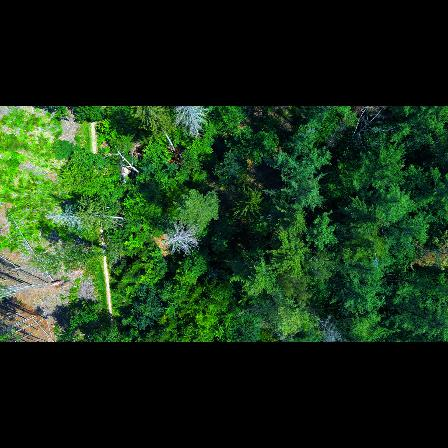Dead: (159, 219, 203, 257), (171, 106, 212, 141), (43, 206, 84, 234), (313, 312, 350, 342)
